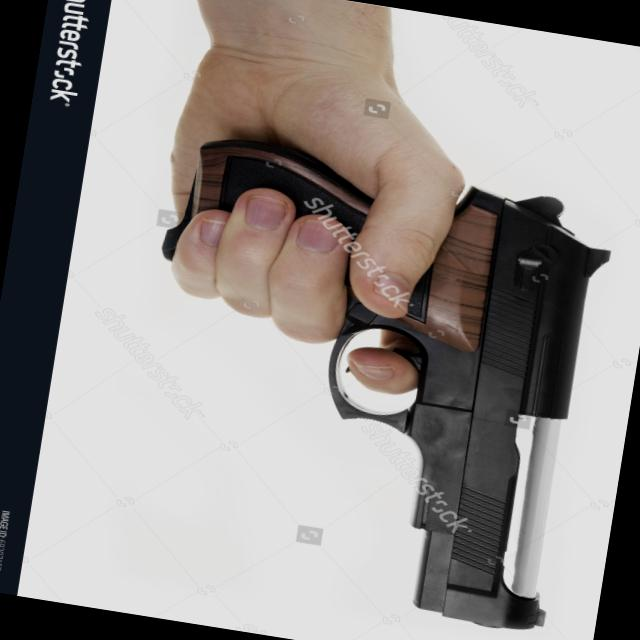handgun: (110, 125, 623, 638)
